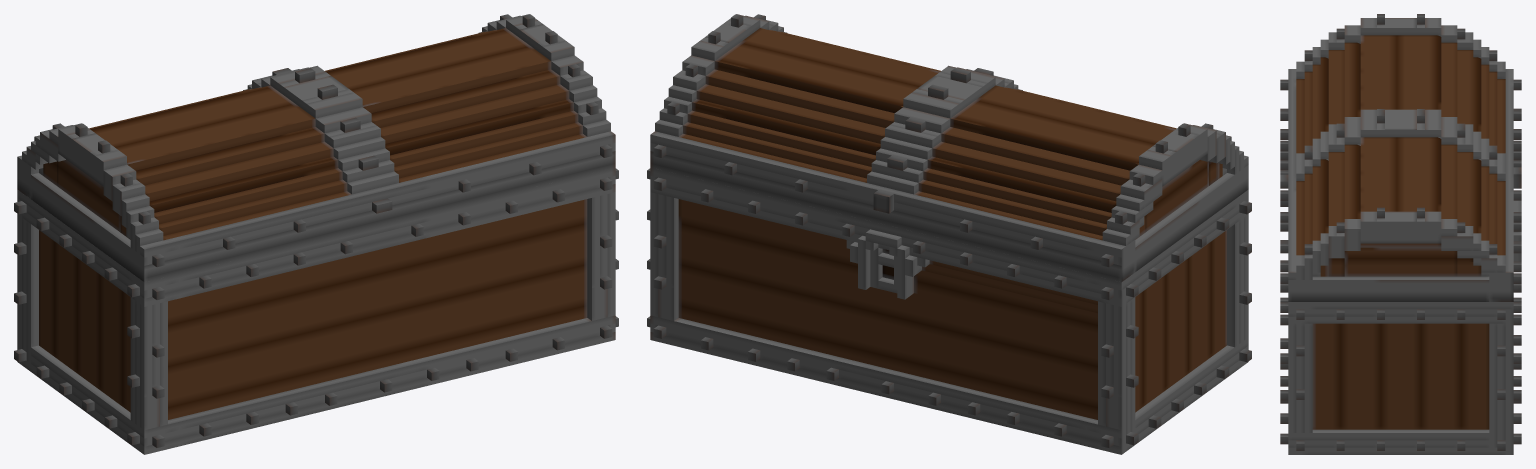
Rendered from TreashureChest.obj.
3 renders of one model, left to right at view 1: azimuth 30°, elevation 25°; view 2: azimuth 150°, elevation 25°; view 3: azimuth 270°, elevation 25°, orthographic. The views are drawn at different scales.
Visible parts, largest first — view 1: Model; view 2: Model; view 3: Model.
Part boxes in pixels (bbox=[...]): Model: bbox=[14, 14, 618, 454]; Model: bbox=[647, 14, 1251, 454]; Model: bbox=[1280, 14, 1521, 454].
Bounding box in the file's own units: 62 × 33 × 30.
1 material, 1 textured.
